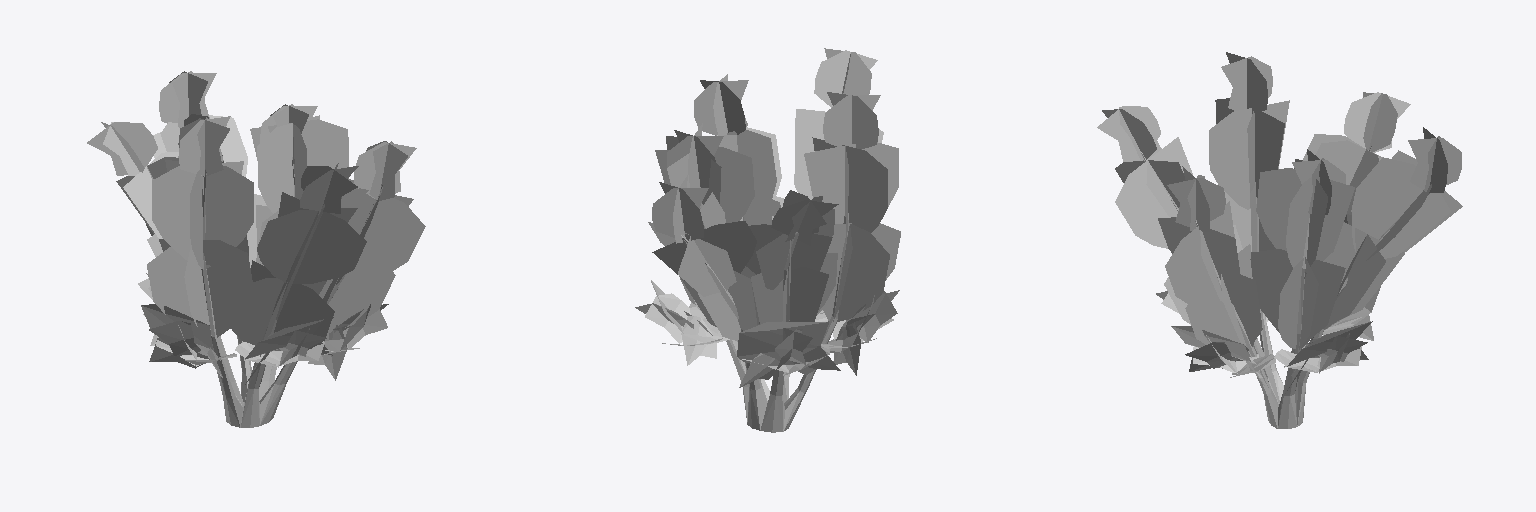
The model's file is Sharp_Maple09.obj.
The picture shows the model from 3 angles: view 1: azimuth 30°, elevation 25°; view 2: azimuth 150°, elevation 25°; view 3: azimuth 270°, elevation 25°; orthographic projection.
Parts seen in each view (by area): view 1: Bfol_Mesh.003, Cfol_Mesh.004, Afol_Mesh.002, Dfol_Mesh.005, Trunk_Mesh.001; view 2: Bfol_Mesh.003, Afol_Mesh.002, Cfol_Mesh.004, Dfol_Mesh.005, Trunk_Mesh.001; view 3: Bfol_Mesh.003, Cfol_Mesh.004, Afol_Mesh.002, Dfol_Mesh.005, Trunk_Mesh.001.
Boxes of the visible parts, x1,y1,x2,y2 form: Bfol_Mesh.003: [116, 114, 425, 287]; Cfol_Mesh.004: [146, 194, 395, 356]; Afol_Mesh.002: [87, 71, 416, 214]; Dfol_Mesh.005: [138, 273, 388, 384]; Trunk_Mesh.001: [139, 157, 382, 427]; Bfol_Mesh.003: [648, 109, 898, 296]; Afol_Mesh.002: [652, 48, 880, 245]; Cfol_Mesh.004: [679, 193, 900, 341]; Dfol_Mesh.005: [635, 280, 899, 387]; Trunk_Mesh.001: [681, 128, 848, 432]; Bfol_Mesh.003: [1115, 98, 1462, 303]; Cfol_Mesh.004: [1164, 184, 1404, 349]; Afol_Mesh.002: [1097, 52, 1461, 231]; Dfol_Mesh.005: [1156, 286, 1380, 393]; Trunk_Mesh.001: [1141, 146, 1429, 428].
Size of the model in its own units: 10.29 by 13.69 by 13.75.